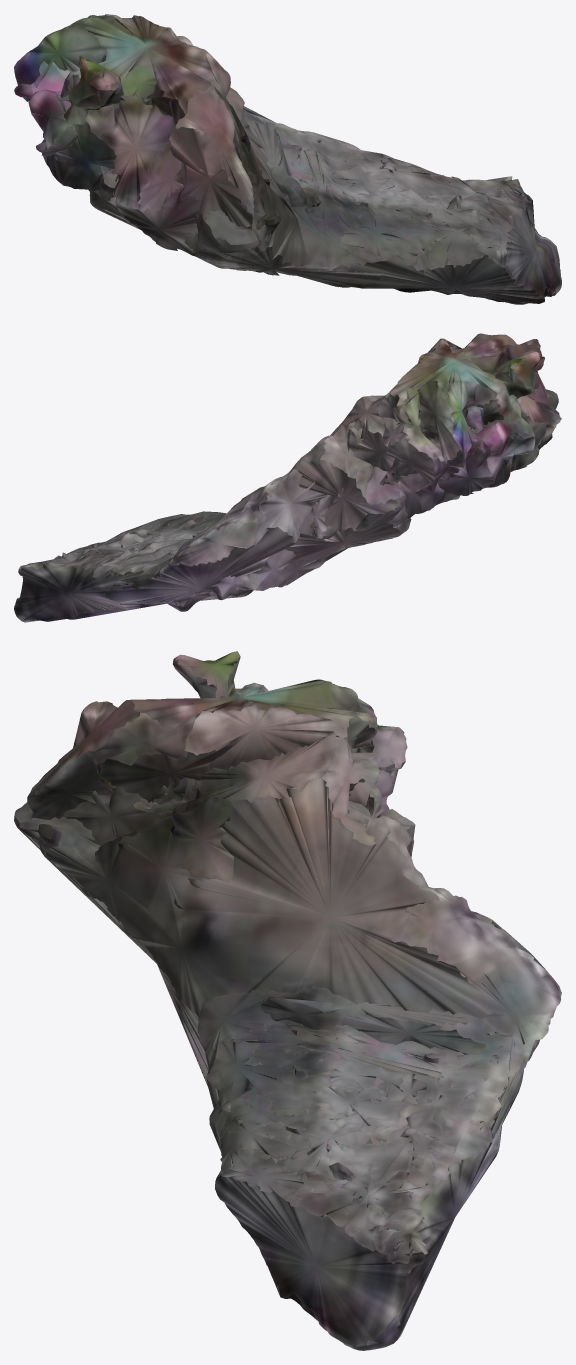
Rendered from 2_doormat.glb.
3 renders of one model, top to bottom at view 1: azimuth 30°, elevation 25°; view 2: azimuth 150°, elevation 25°; view 3: azimuth 270°, elevation 25°, orthographic. The views are drawn at different scales.
Parts seen in each view (by area): view 1: 2_doormat; view 2: 2_doormat; view 3: 2_doormat.
Part boxes in pixels (x1,y1,x2,y2): 2_doormat: (14, 14, 561, 304); 2_doormat: (14, 333, 561, 622); 2_doormat: (14, 651, 561, 1350).
Size of the model in its own units: 0.3514 by 0.2349 by 0.2743.
Materials: 1 (1 with a texture image).
